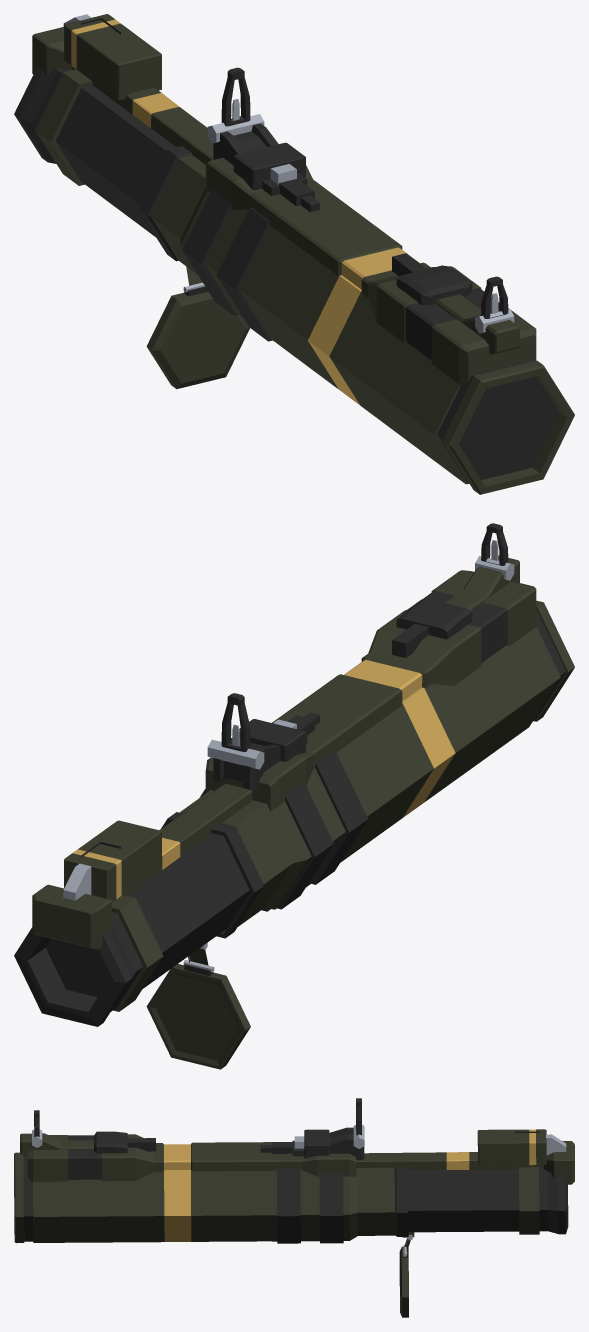
File: bazooka.fbx
3 views of the same model, one above another, from view 1: azimuth 30°, elevation 25°; view 2: azimuth 150°, elevation 25°; view 3: azimuth 270°, elevation 25° (orthographic). The views are drawn at different scales.
Parts seen in each view (by area): view 1: bazooka; view 2: bazooka; view 3: bazooka.
Part boxes in pixels (x1=…): bazooka: x1=14, y1=14, x2=574, y2=494; bazooka: x1=14, y1=523, x2=574, y2=1069; bazooka: x1=14, y1=1098, x2=574, y2=1317.
Bounding box in the file's own units: 88.96 × 217 × 523.
